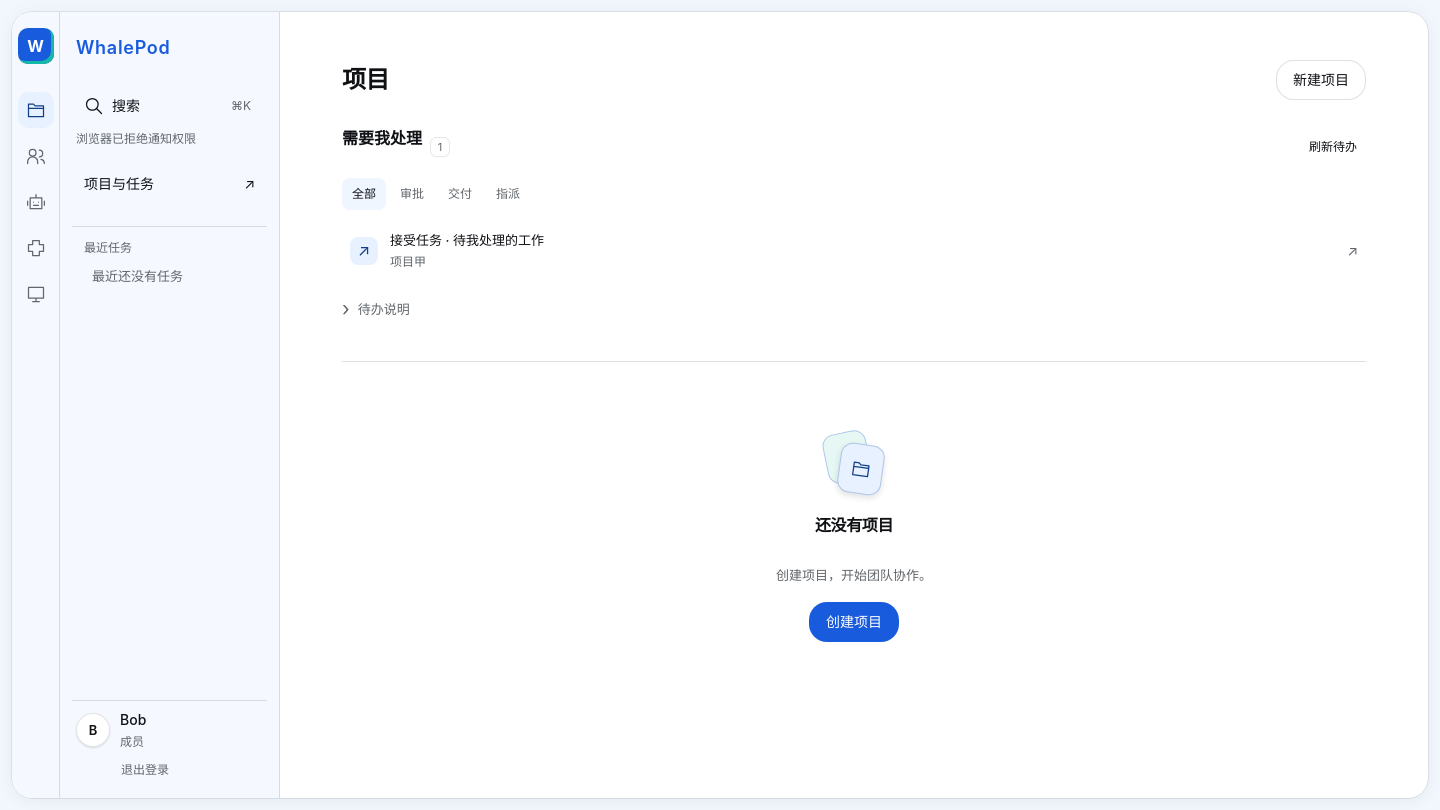
首页个人行动入口 (#332) › 本人接受后回到缓存首页，旧事项消失，无需WS补偿
The image size is (1440, 810).
Click the link "接受任务 · 待我处理的工作".
click(467, 240)  # box x1=390 y1=232 x2=544 y2=248
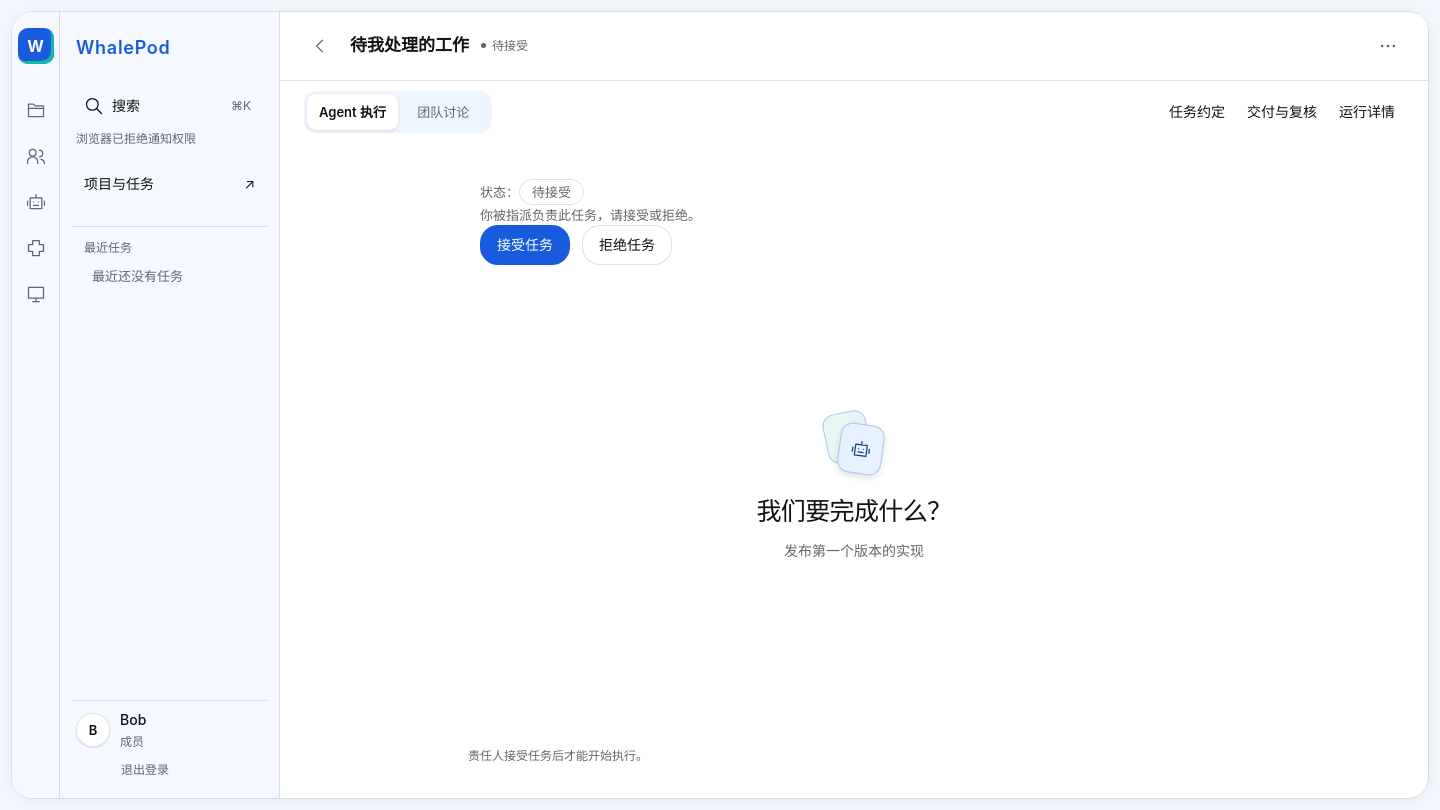
Click the button "接受任务".
click(525, 245)  # box x1=480 y1=225 x2=570 y2=265
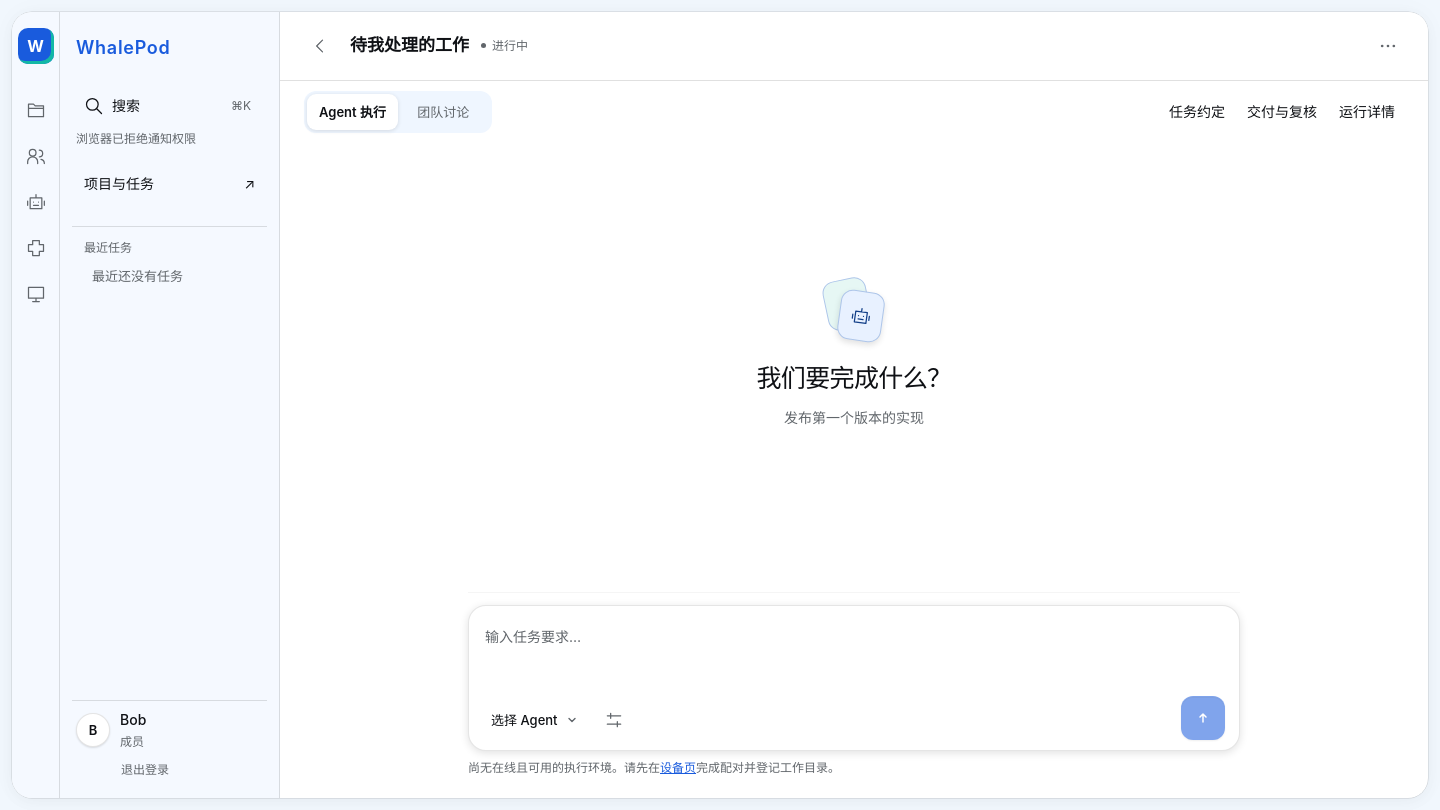
Click the link with test id "task-back-link".
click(320, 46)  # box x1=310 y1=36 x2=330 y2=56
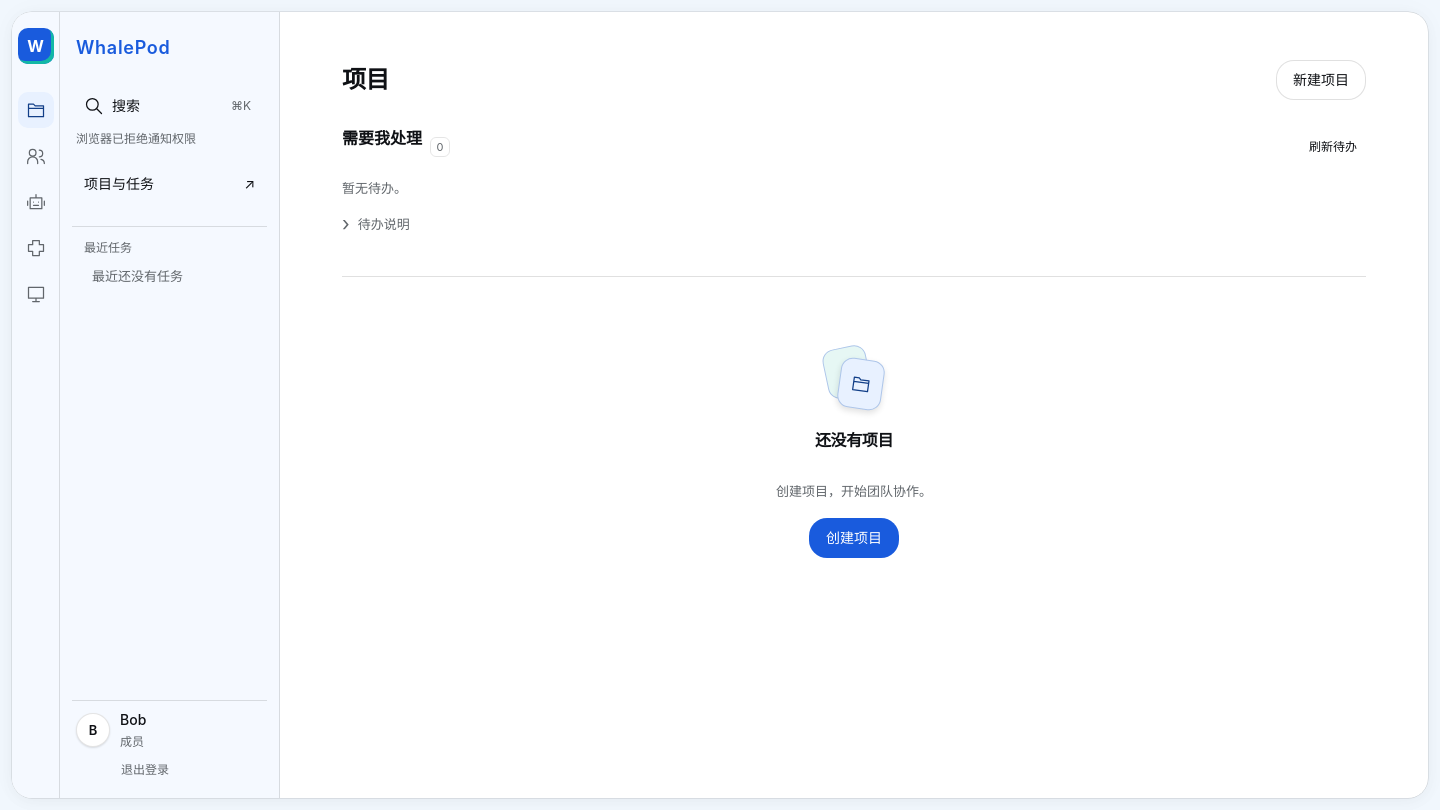
Now the text "暂无待办。" is shown, box x1=342 y1=180 x2=407 y2=196
Now the link "设备页" is gone
